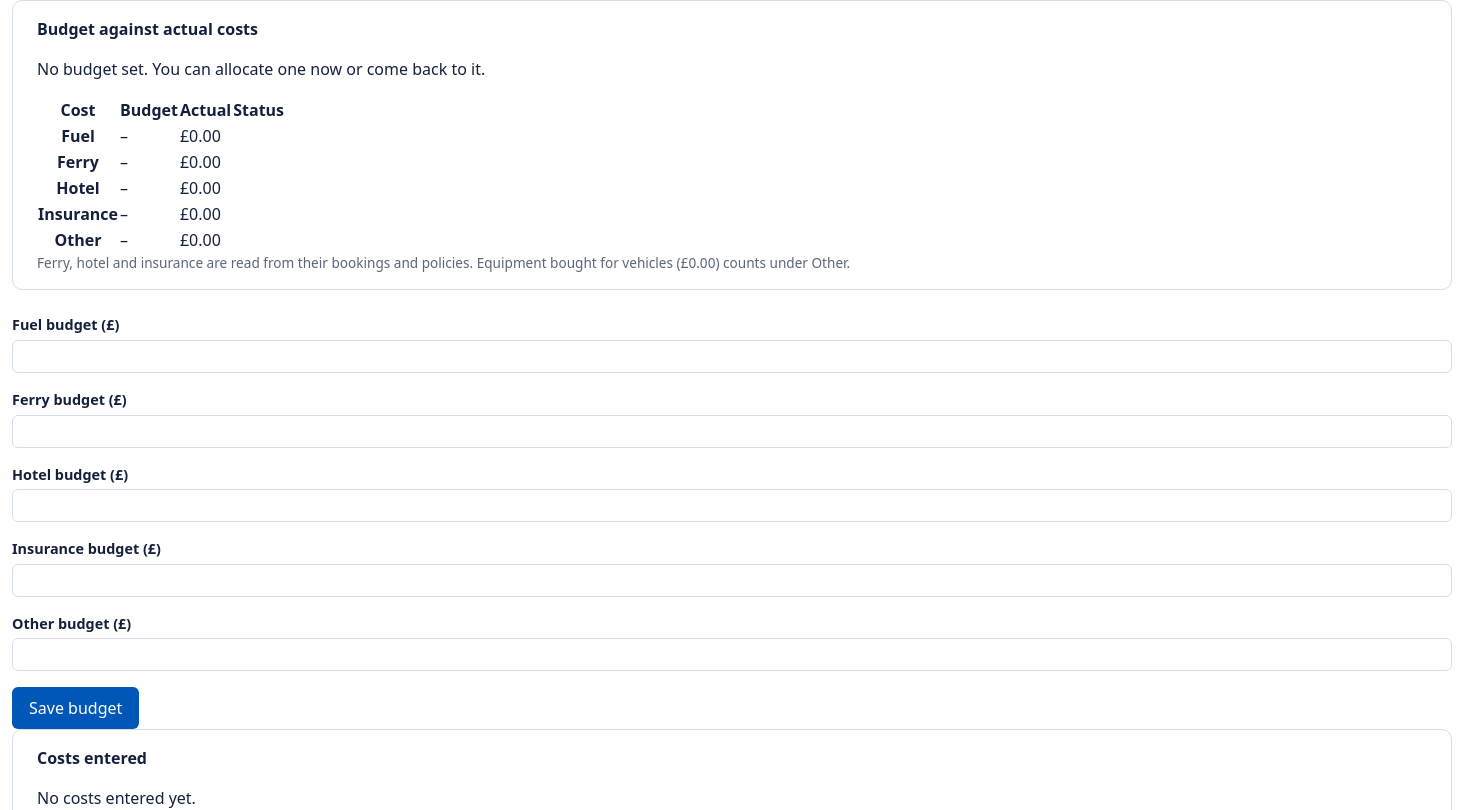
Scenario: a negative amount is refused before anything is sent
Type "-5" into the field labelled "Fuel budget (£)" at (732, 356), box [12,340,1452,373]
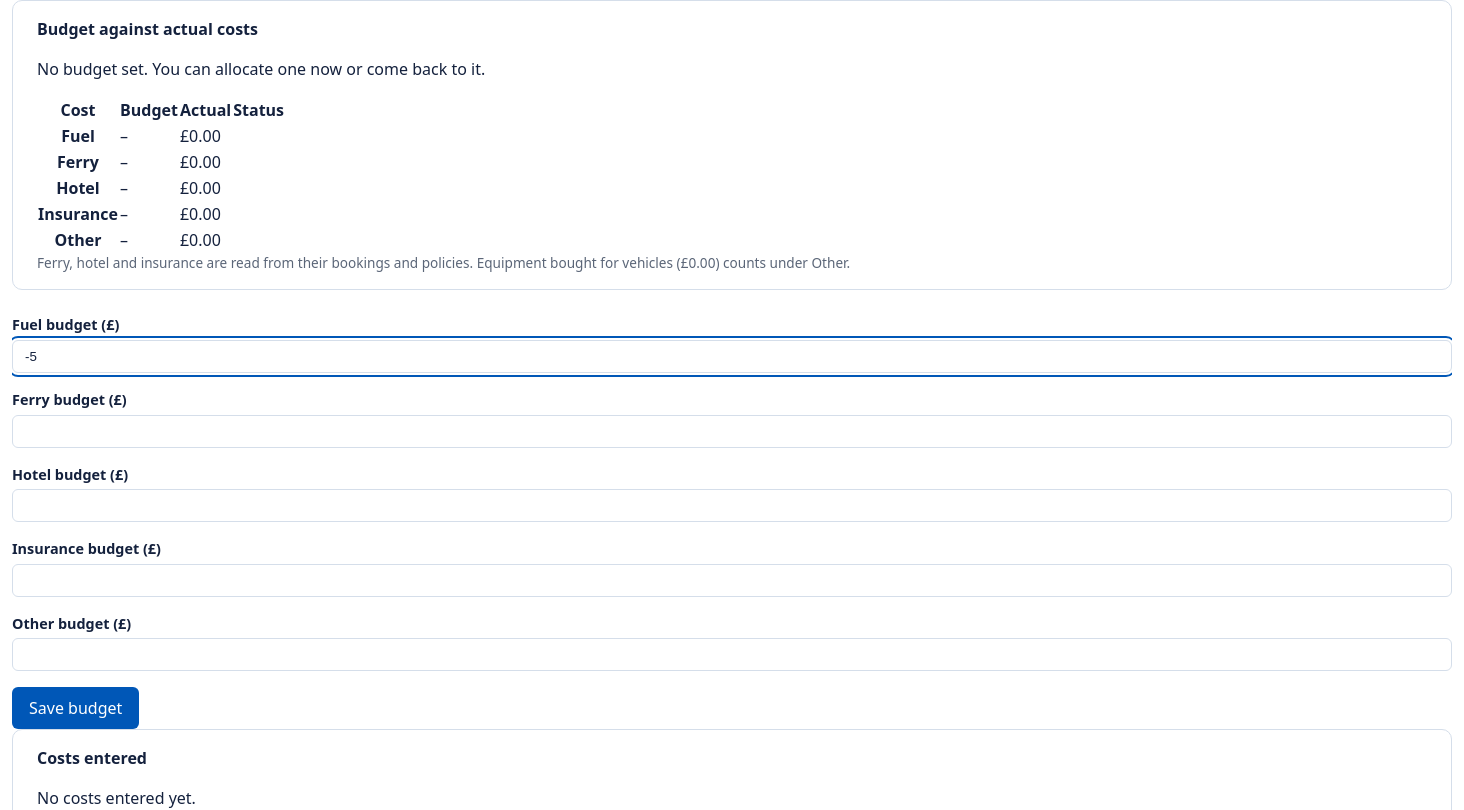
Click the button "Save budget" at (76, 708), box [12,687,139,729]
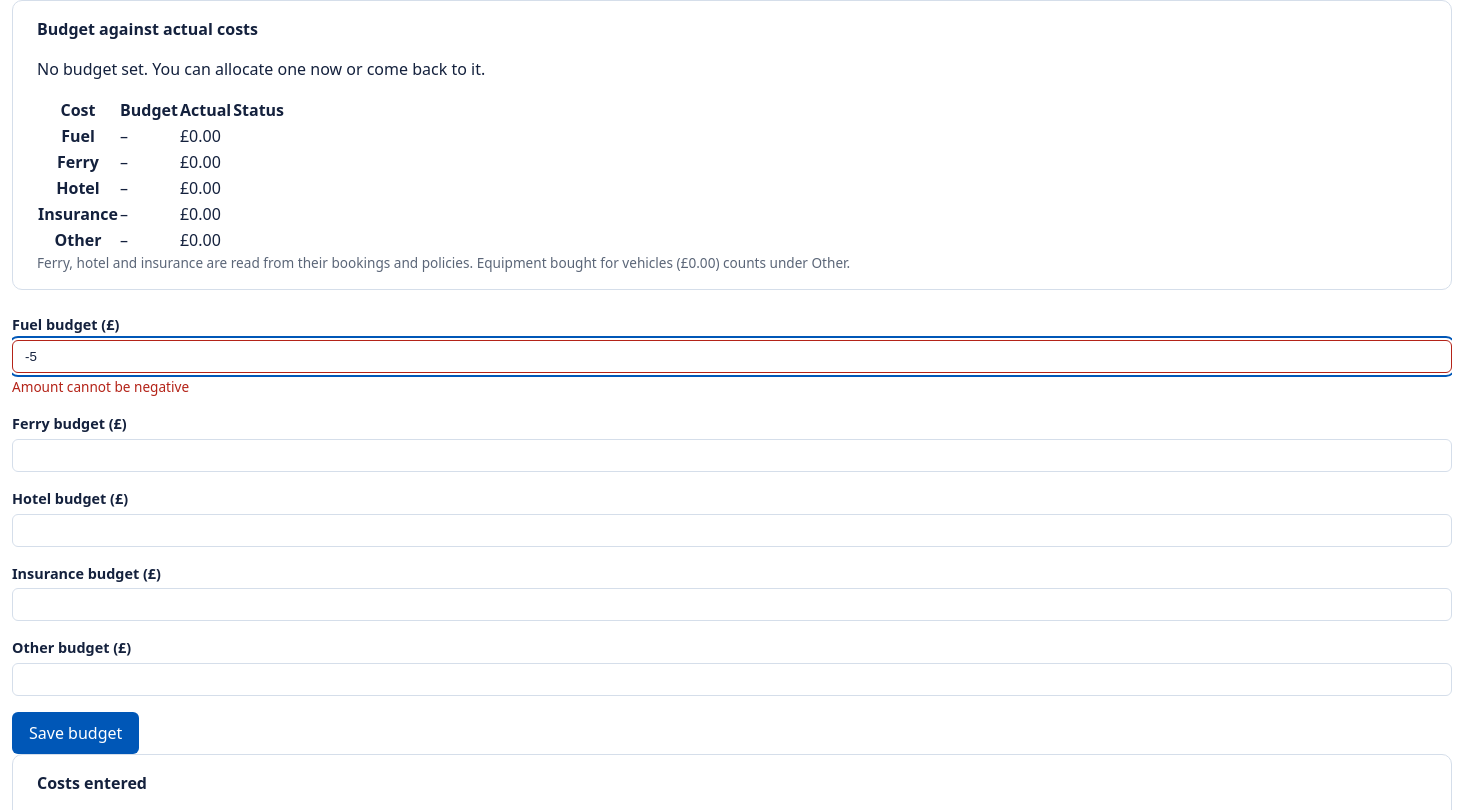
Expected: the text "Amount cannot be negative" is shown, [12,377,189,396]
